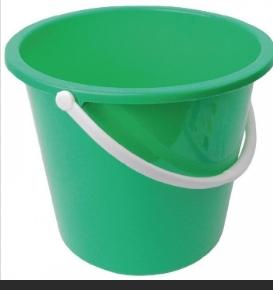SEAU: (1, 2, 273, 290)
